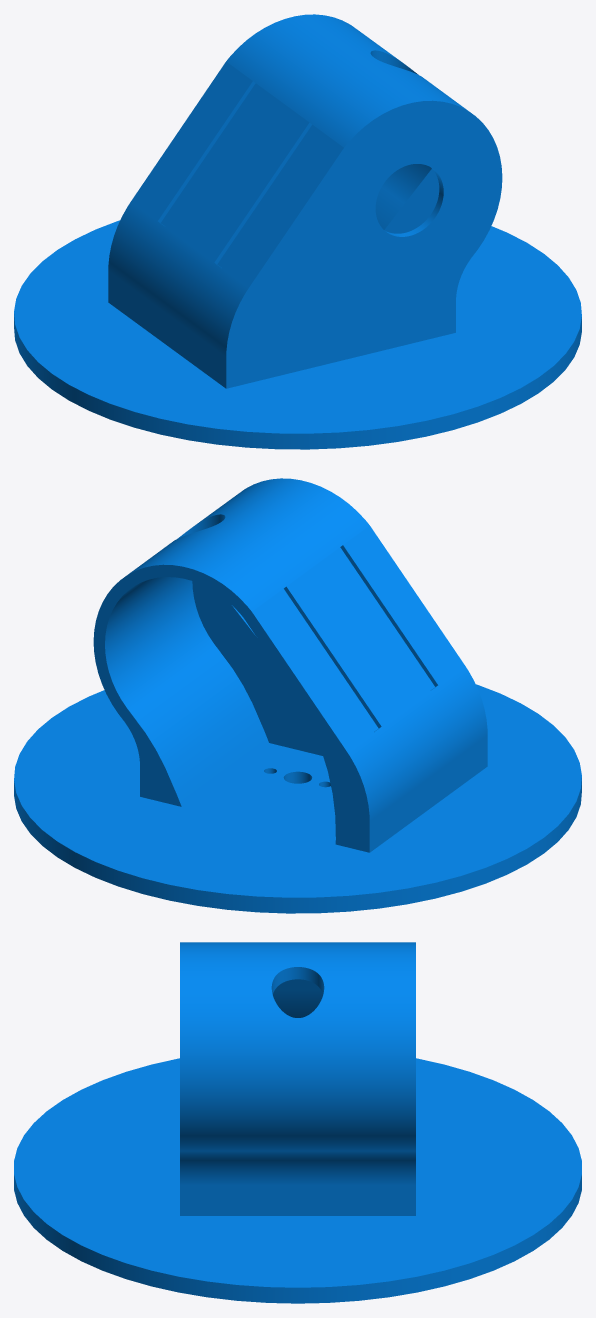
The picture shows the model from 3 angles, top to bottom: view 1: azimuth 30°, elevation 25°; view 2: azimuth 150°, elevation 25°; view 3: azimuth 270°, elevation 25°; orthographic projection.
Visible parts, largest first — view 1: Waist; view 2: Waist; view 3: Waist.
Part boxes in pixels (<box>): Waist: <box>14,14,581,449</box>; Waist: <box>14,478,581,913</box>; Waist: <box>14,942,581,1303</box>.
Size of the model in its own units: 0.13 by 0.0648 by 0.1298.
